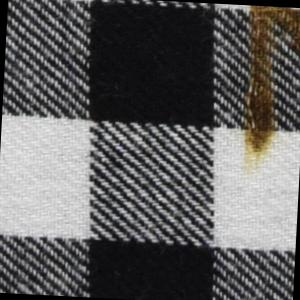Oil Stain: (235, 5, 300, 170)
